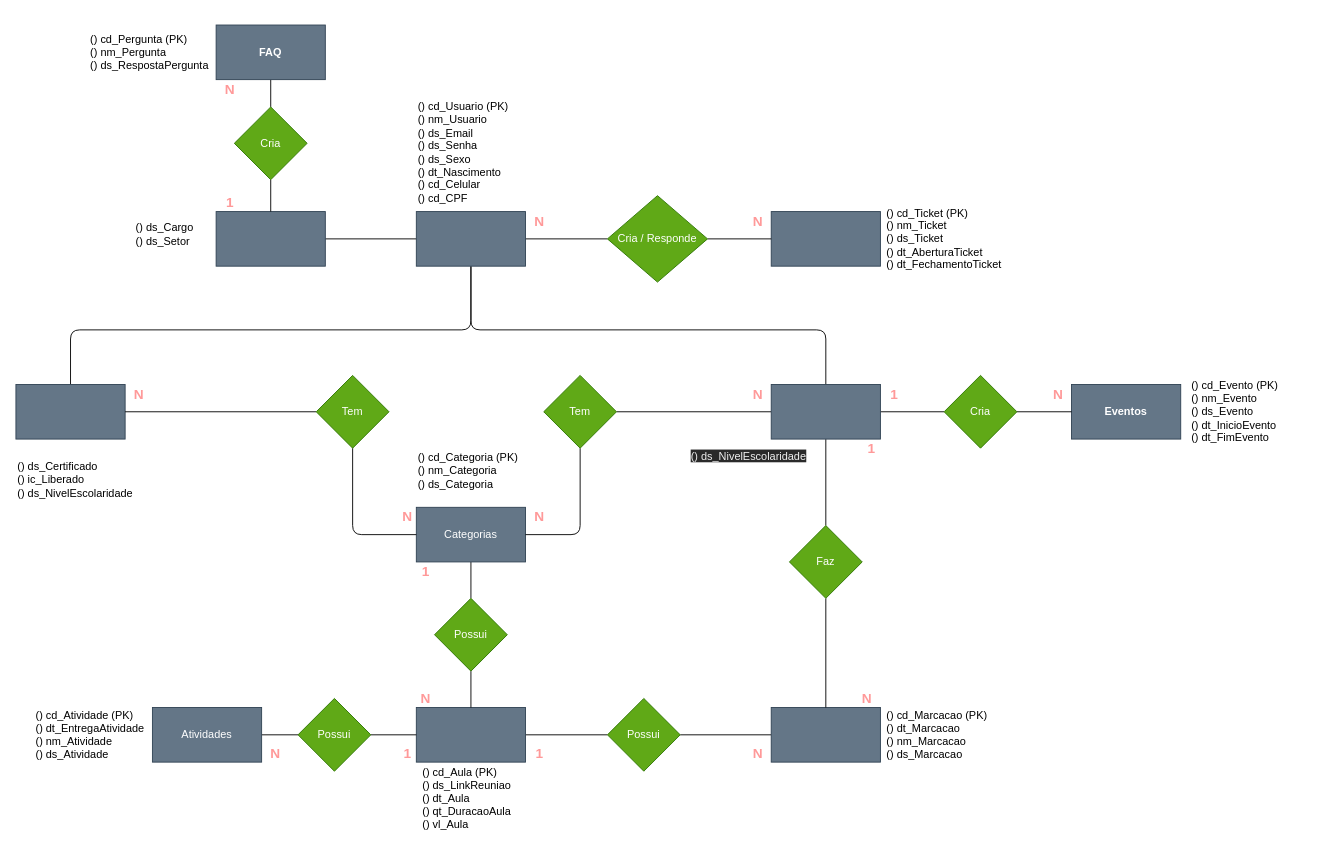
The diagram is 1338 pixels wide and 850 high, and some of its shapes have lost their labels. The shapes that lost their labels are listed below. From the top down, each one's box as (x1, y1, x2, y2) in pixels, then its label:
(215, 211, 325, 266): Funcionario
(415, 211, 526, 266): Usuário
(770, 211, 880, 266): Tickets
(15, 384, 125, 439): Professor
(770, 384, 880, 439): Alunos
(415, 707, 526, 762): Aulas
(770, 707, 880, 762): Marcações
